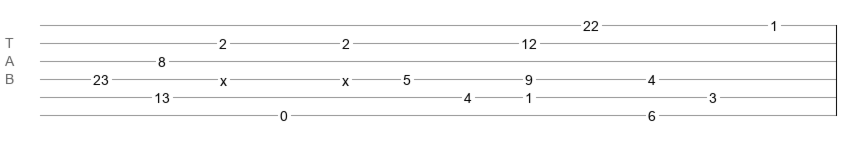0: (280, 108, 288, 118)
1: (525, 90, 533, 100), (770, 18, 778, 28)
12: (521, 36, 537, 46)
13: (154, 90, 170, 100)
2: (219, 36, 227, 46), (342, 36, 350, 46)
22: (583, 18, 599, 28)
23: (93, 72, 109, 82)
3: (709, 90, 717, 100)
4: (464, 90, 472, 100), (648, 72, 656, 82)
5: (403, 72, 411, 82)
6: (648, 108, 656, 118)
8: (158, 54, 166, 64)
9: (525, 72, 533, 82)
x: (220, 73, 227, 81), (342, 73, 349, 81)
